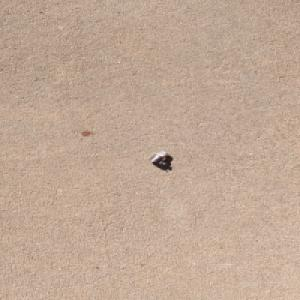MetalPart: (148, 150, 169, 166)
